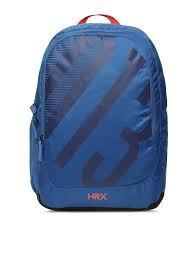backpack: (28, 13, 168, 211)
